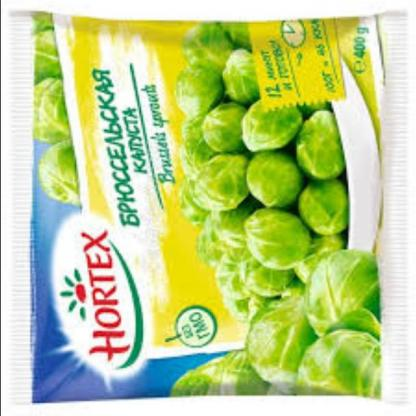brus capusta: (178, 35, 360, 325), (175, 254, 386, 401), (27, 133, 80, 210), (29, 37, 70, 129)
